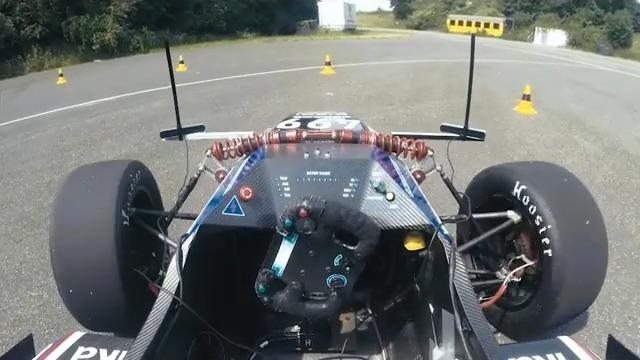yellow_cone: (513, 83, 539, 116), (320, 54, 337, 76), (175, 54, 188, 73), (55, 68, 69, 85)
